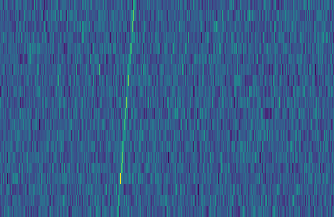signal: (111, 0, 138, 217)
